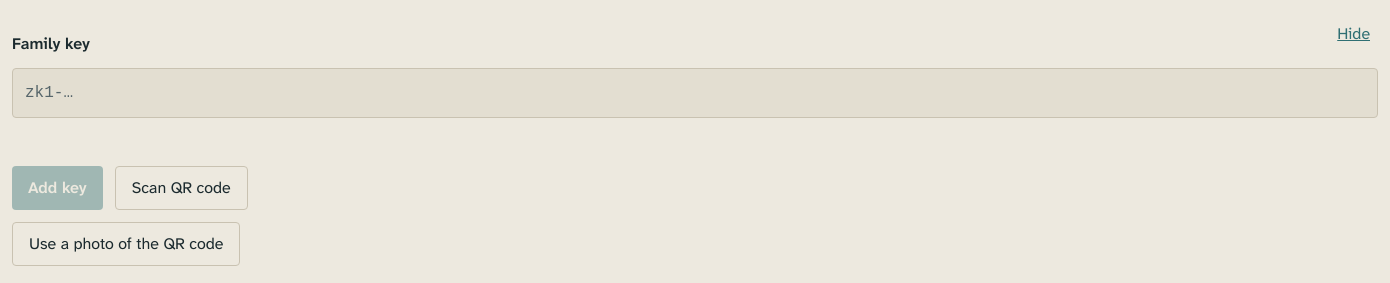
Scenario: KeyImport field › validation text is linked by aria-describedby inside a polite live region
The image size is (1390, 283).
Type "zk1-abc" into the field labelled "Family key" at [695, 93], box [12,68,1378,118]
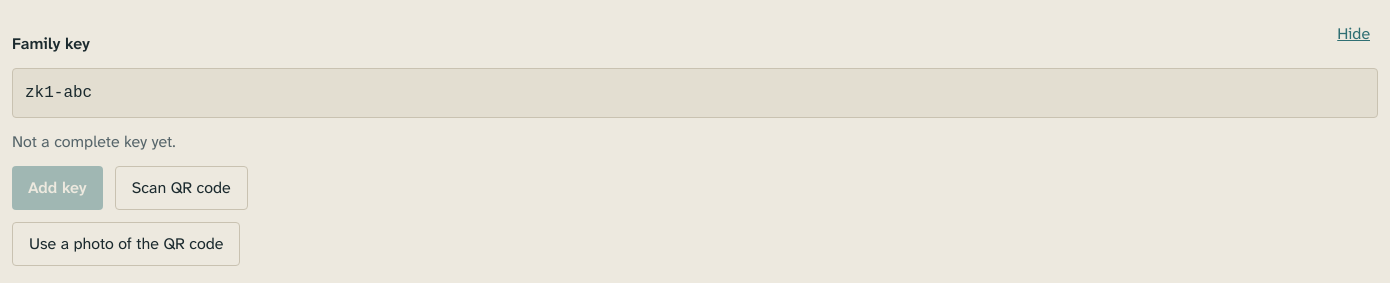
Expected: the text "Not a complete key yet." is shown, [12,131,176,152]
Replace the text in the field labelled "Family key" with "zk1-000102030405060708090a0b0c0d0e0f101112131415161718191a1b1c1d1e1f-2418" at [695, 93], box [12,68,1378,118]
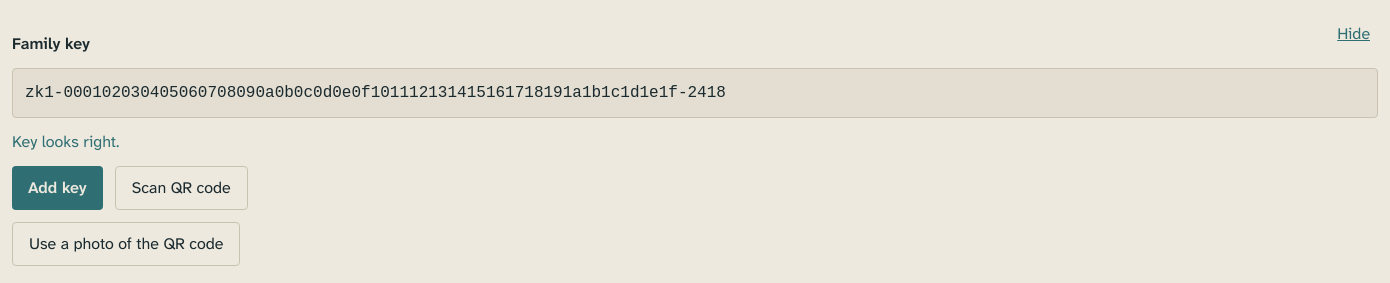
Expected: the text "Key looks right." is shown, [12,131,119,152]
